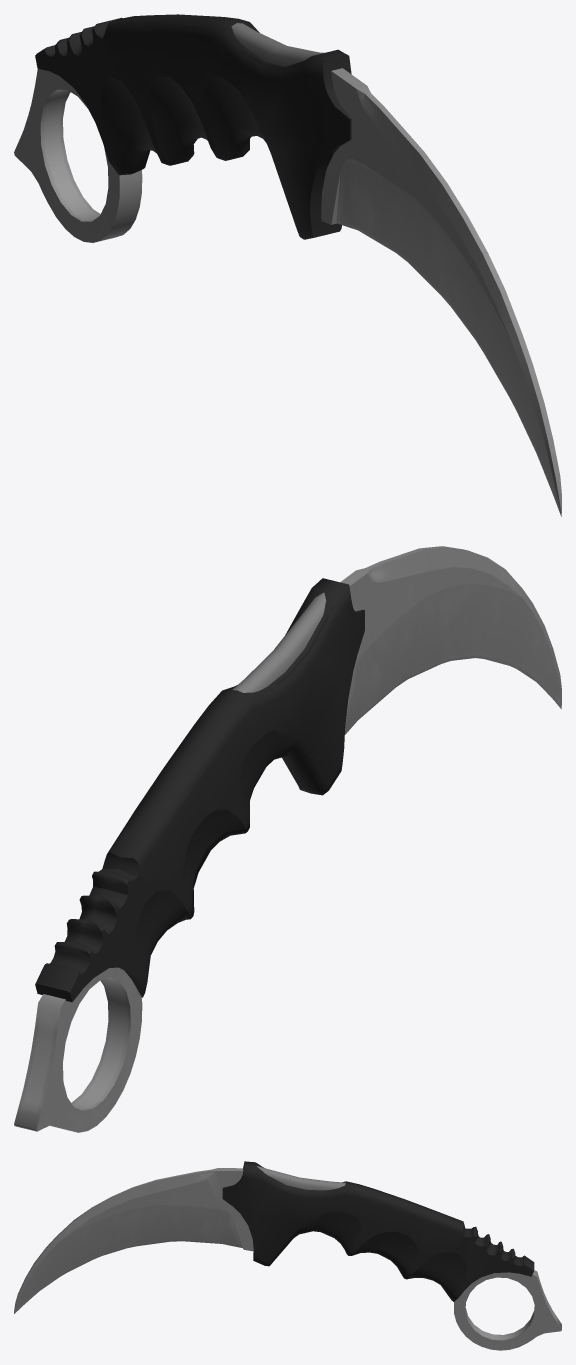
Rendered from Karambit_Drop.glb.
3 views of the same model, one above another, from view 1: azimuth 30°, elevation 25°; view 2: azimuth 150°, elevation 25°; view 3: azimuth 270°, elevation 25° (orthographic). The views are drawn at different scales.
Parts seen in each view (by area): view 1: Karambit_upd; view 2: Karambit_upd; view 3: Karambit_upd.
Boxes of the visible parts, <box> form: Karambit_upd: <box>14,14,561,516</box>; Karambit_upd: <box>14,546,561,1132</box>; Karambit_upd: <box>14,1161,561,1350</box>.
Bounding box in the file's own units: 0.00726 × 0.0676 × 0.1832.
1 material, 1 textured.
